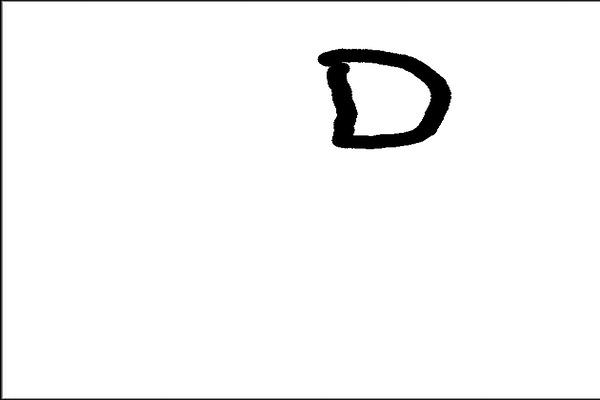D: (311, 43, 453, 154)
